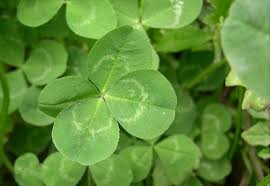4-clover: (37, 25, 177, 165)
